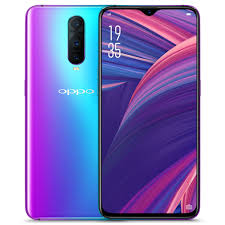oppo: (98, 1, 201, 223), (23, 1, 102, 221)
